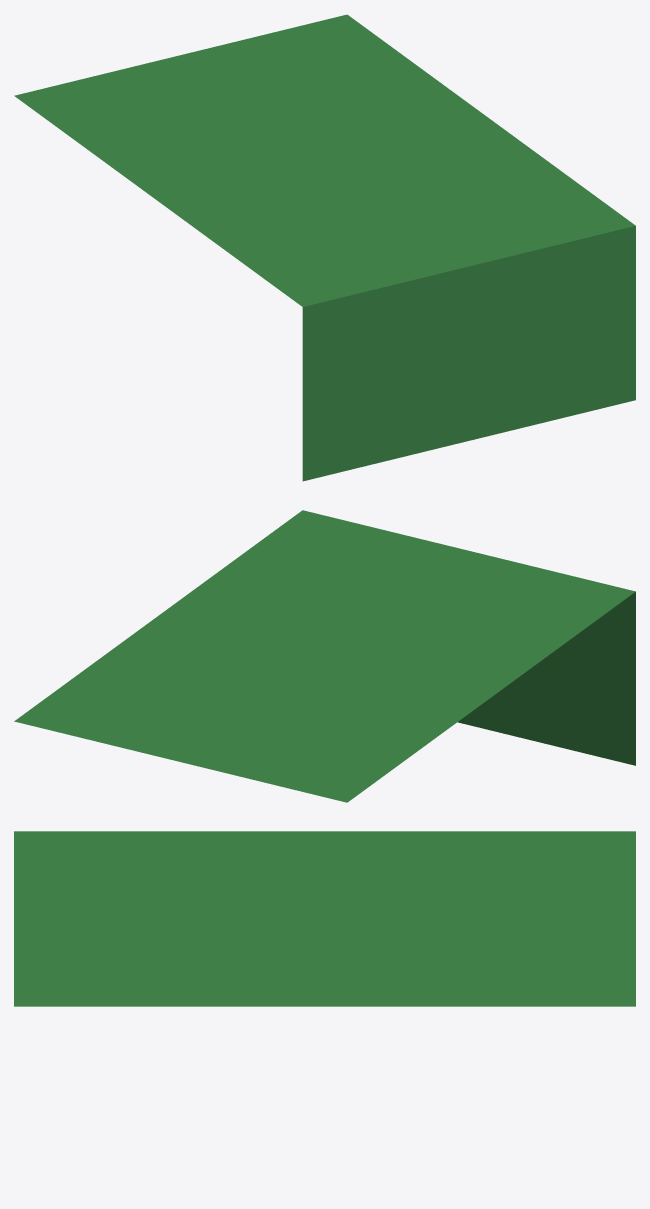
The model's file is Tile04.glb.
3 renders of one model, top to bottom at view 1: azimuth 30°, elevation 25°; view 2: azimuth 150°, elevation 25°; view 3: azimuth 270°, elevation 25°, orthographic. The views are drawn at different scales.
Visible parts, largest first — view 1: 04; view 2: 04; view 3: 04.
Boxes of the visible parts, left/top/right/bottom form: 04: left=14, top=14, right=635, bottom=481; 04: left=14, top=510, right=635, bottom=802; 04: left=14, top=831, right=635, bottom=1006.
Bounding box in the file's own units: 2 × 1 × 3.
1 material, 1 textured.
